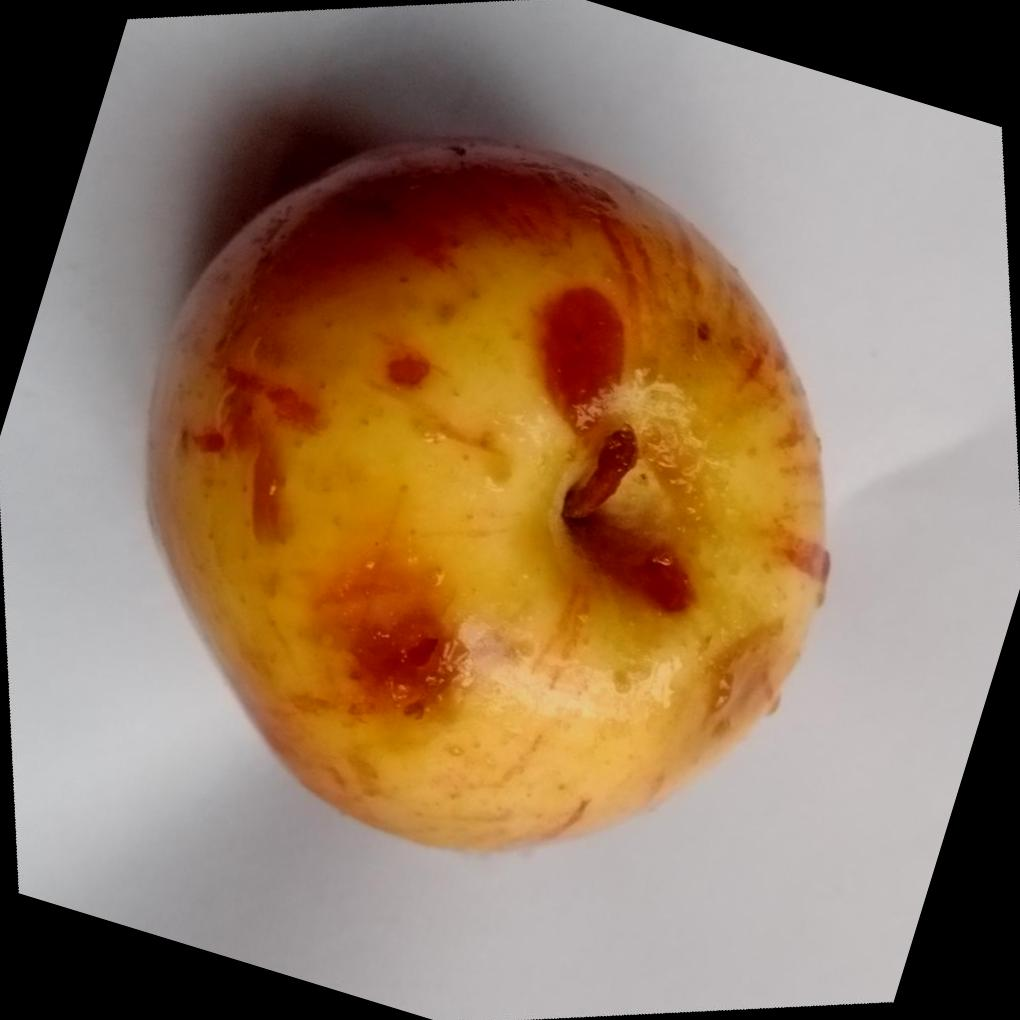FreshOrange: (142, 135, 830, 858)
